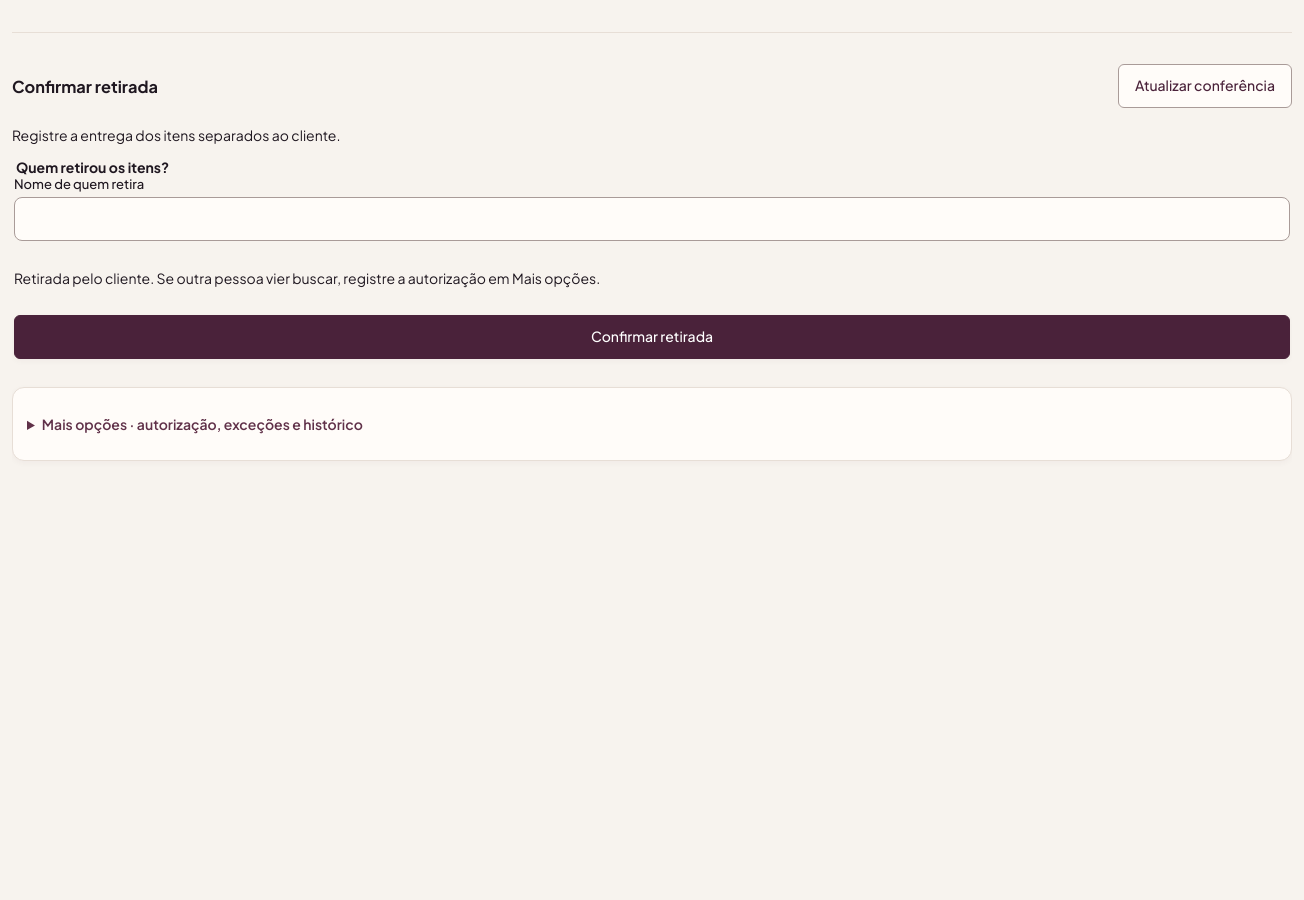
confirms pickup with a name and fresh server checks in one explicit action
Type "Cliente sintético" into the field labelled "Nome de quem retira" at (652, 219), box [14,197,1290,241]
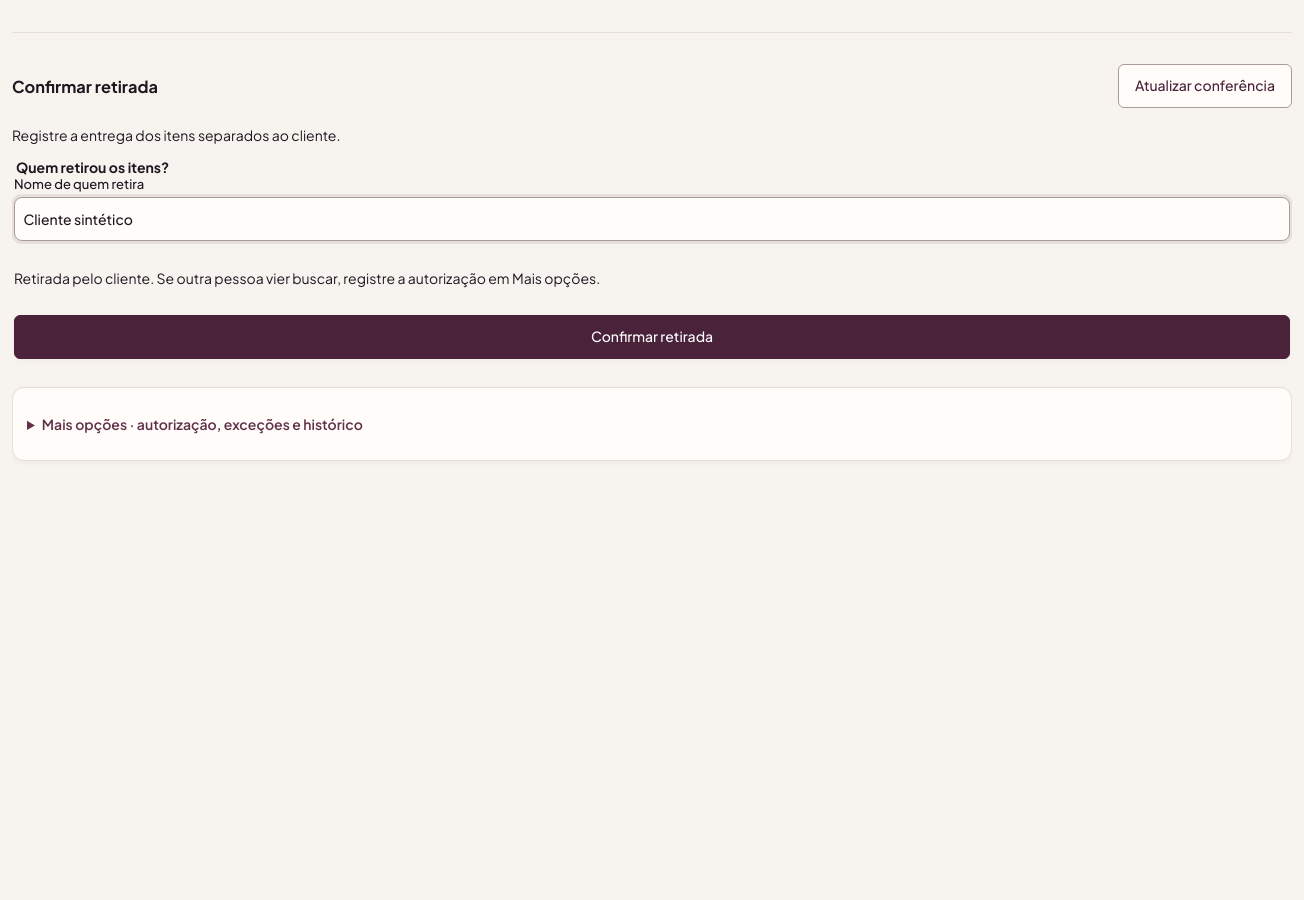
Click the button "Confirmar retirada" at (652, 337), box [14,315,1290,359]
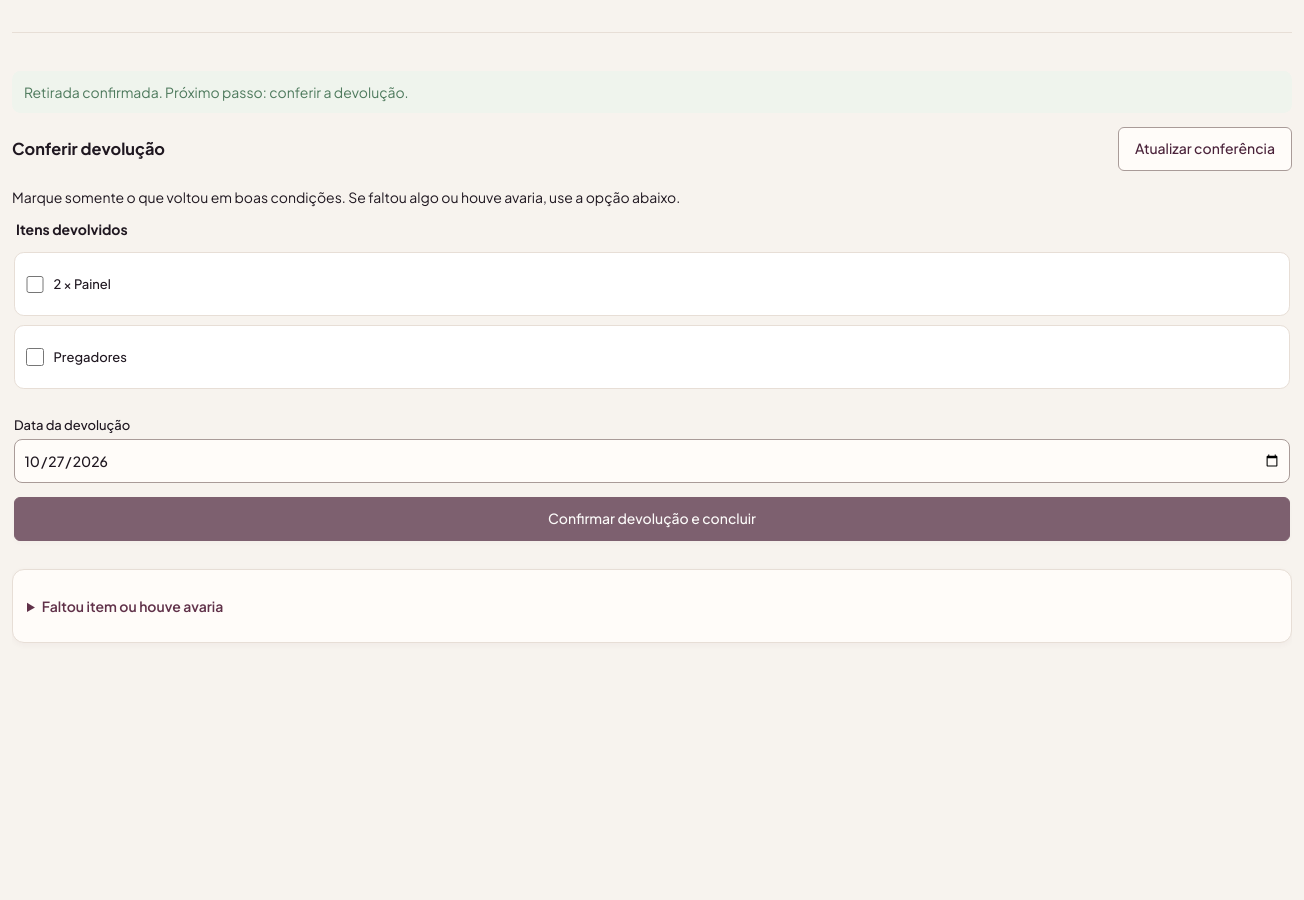
Now the text "Retirada confirmada. Próximo passo: conferir a devolução." is shown, box [12,71,1292,113]
